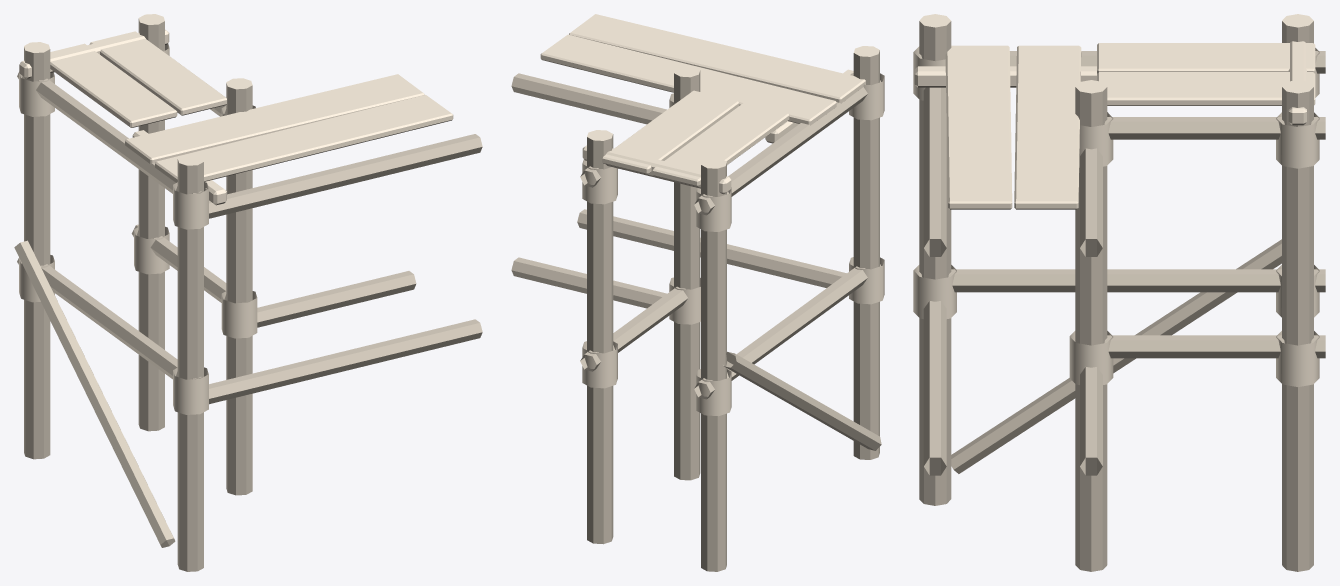
Rendered from SM_VK_Scaffold_Corner_Top.fbx.
The picture shows the model from 3 angles, left to right: view 1: azimuth 30°, elevation 25°; view 2: azimuth 150°, elevation 25°; view 3: azimuth 270°, elevation 25°; orthographic projection. The views are drawn at different scales.
Parts seen in each view (by area): view 1: SM_VK_Scaffold_Corner_Top.001; view 2: SM_VK_Scaffold_Corner_Top.001; view 3: SM_VK_Scaffold_Corner_Top.001.
Part boxes in pixels (x1,y1,x2,y2): SM_VK_Scaffold_Corner_Top.001: [14, 14, 482, 571]; SM_VK_Scaffold_Corner_Top.001: [511, 14, 884, 571]; SM_VK_Scaffold_Corner_Top.001: [913, 14, 1325, 571].
Size of the model in its own units: 1.83 by 2.3 by 1.8.
